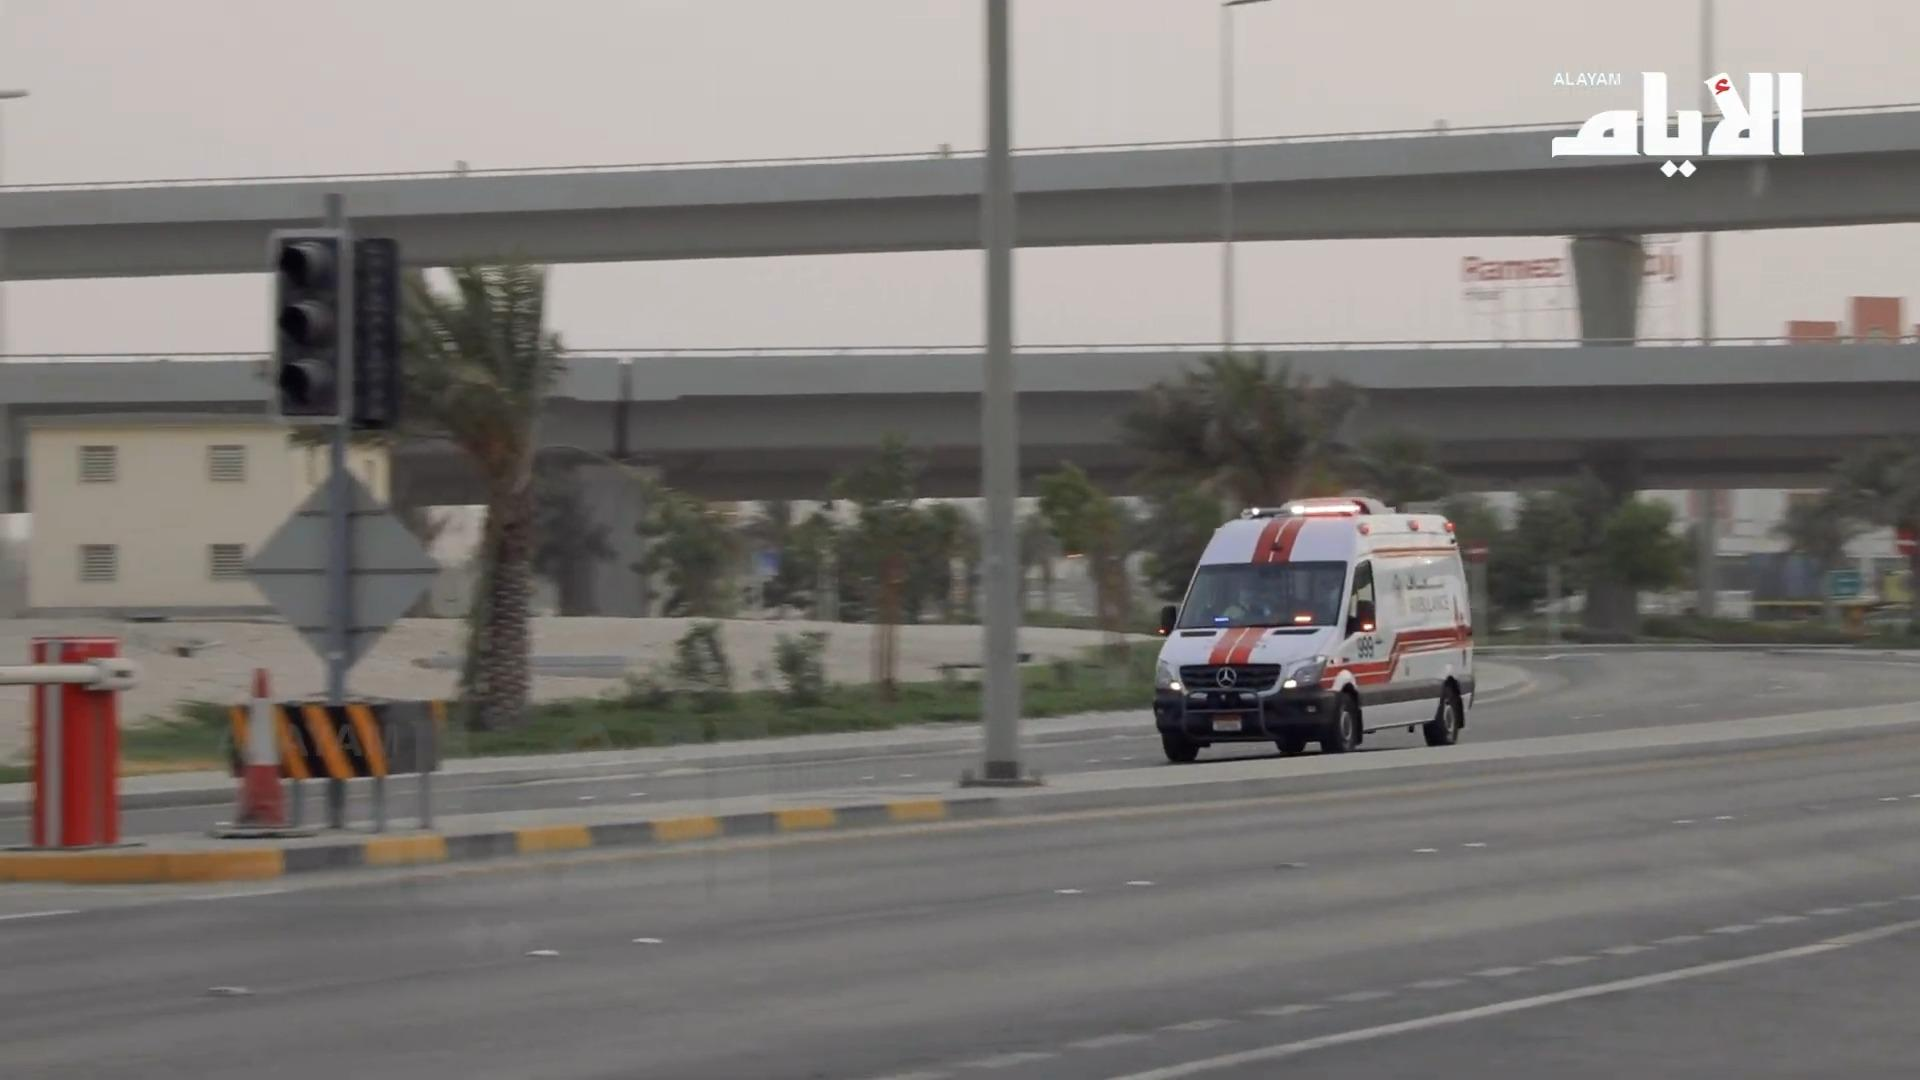ambulance_on: (1155, 497, 1473, 760)
